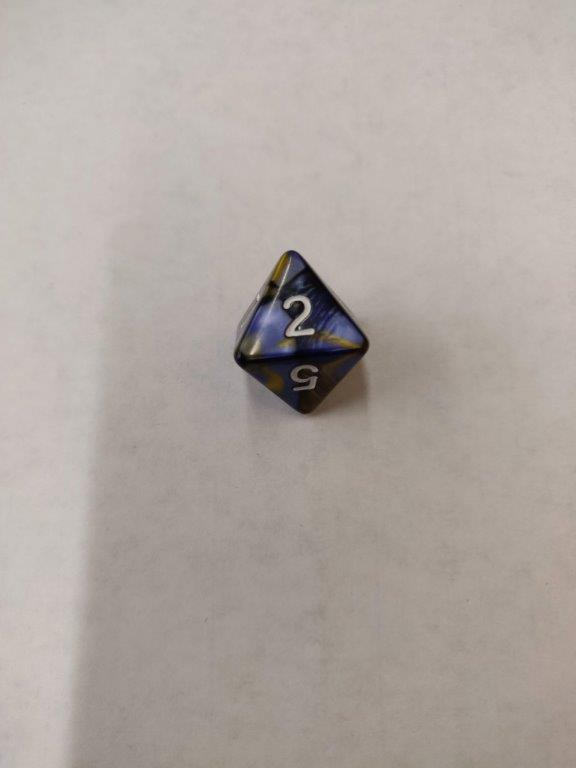d8-2: (231, 250, 374, 413)
